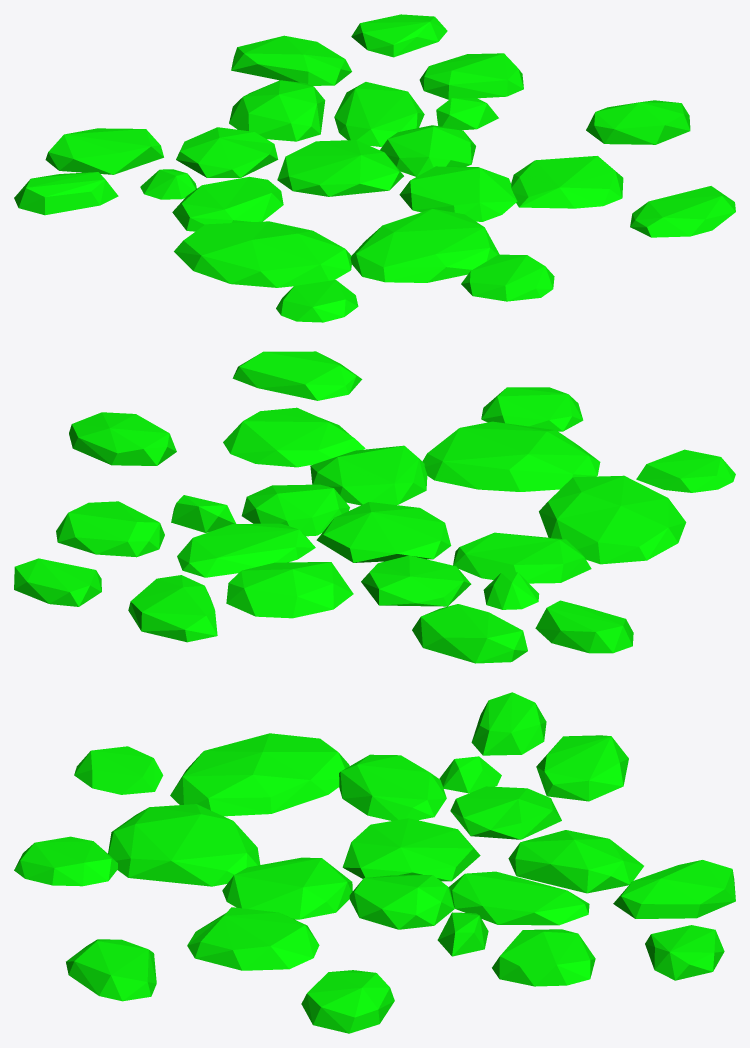
File: SM_Ground_Pavement_B_Fantasy.fbx
3 renders of one model, top to bottom at view 1: azimuth 30°, elevation 25°; view 2: azimuth 150°, elevation 25°; view 3: azimuth 270°, elevation 25°, orthographic. The views are drawn at different scales.
Visible parts, largest first — view 1: ground-pavement-b-fantasy; view 2: ground-pavement-b-fantasy; view 3: ground-pavement-b-fantasy.
Part boxes in pixels (left/top/right/bottom): ground-pavement-b-fantasy: left=14, top=14, right=735, bottom=322; ground-pavement-b-fantasy: left=14, top=351, right=735, bottom=663; ground-pavement-b-fantasy: left=14, top=692, right=735, bottom=1033.
Size of the model in its own units: 2.6 by 0.1034 by 2.44.
